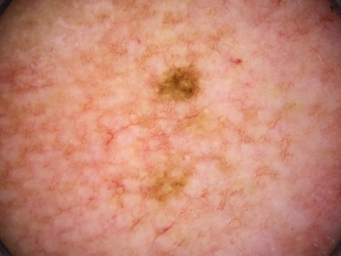melanoma: (155, 67, 199, 102)
